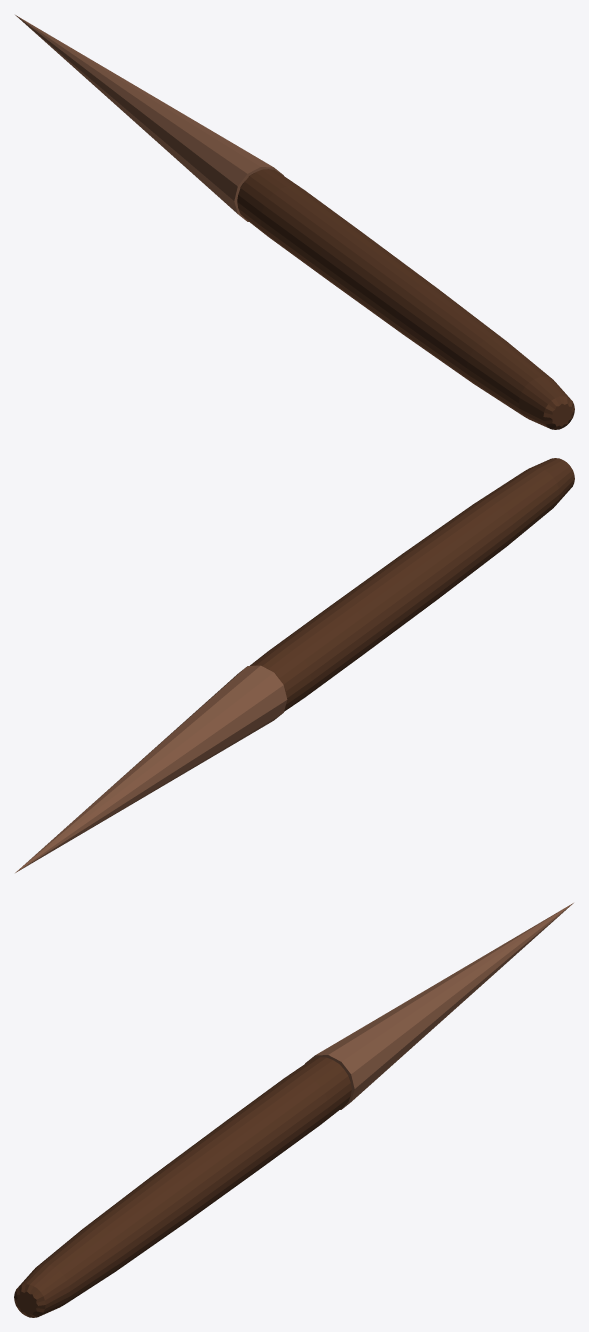
Rendered from Wand 10.glb.
The picture shows the model from 3 angles, top to bottom: view 1: azimuth 30°, elevation 25°; view 2: azimuth 150°, elevation 25°; view 3: azimuth 330°, elevation 25°; orthographic projection.
Parts seen in each view (by area): view 1: GeneratedWand; view 2: GeneratedWand; view 3: GeneratedWand.
Part boxes in pixels (left/top/right/bottom): GeneratedWand: left=15, top=15, right=574, bottom=429; GeneratedWand: left=15, top=458, right=574, bottom=872; GeneratedWand: left=14, top=903, right=573, bottom=1317.
Bounding box in the file's own units: 0.0282 × 0.0282 × 0.5047.
